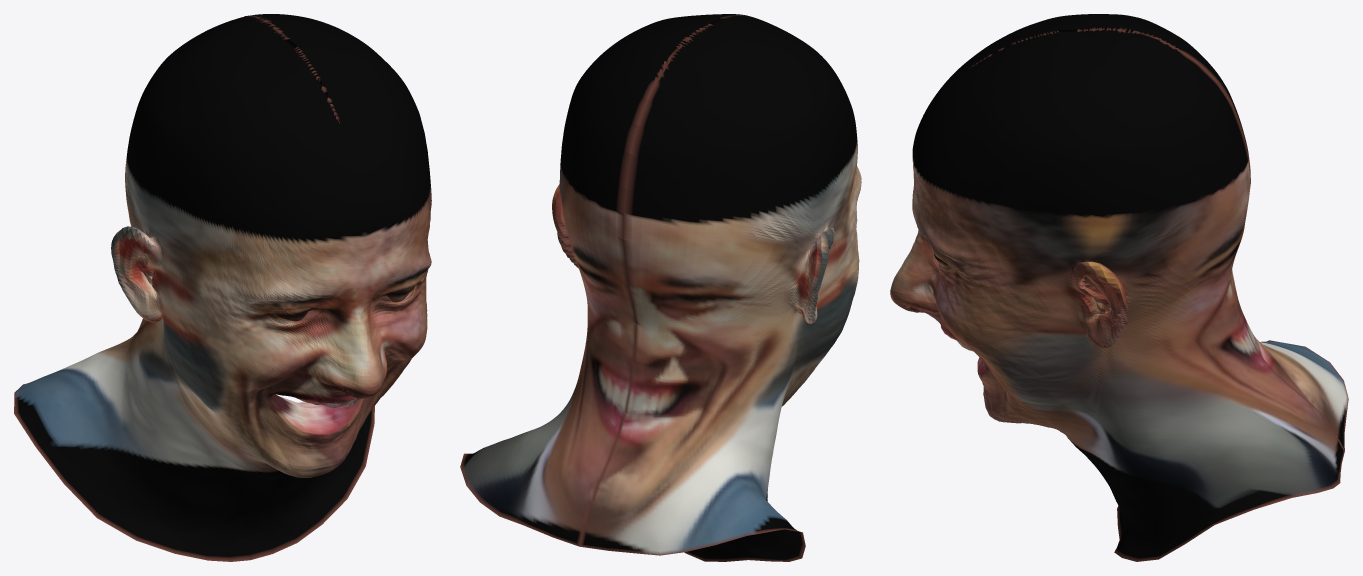
Rendered from mesh_coarse_detail.obj.
The picture shows the model from 3 angles, left to right: view 1: azimuth 30°, elevation 25°; view 2: azimuth 150°, elevation 25°; view 3: azimuth 270°, elevation 25°; orthographic projection. The views are drawn at different scales.
Size of the model in its own units: 0.2181 by 0.3305 by 0.2649.
